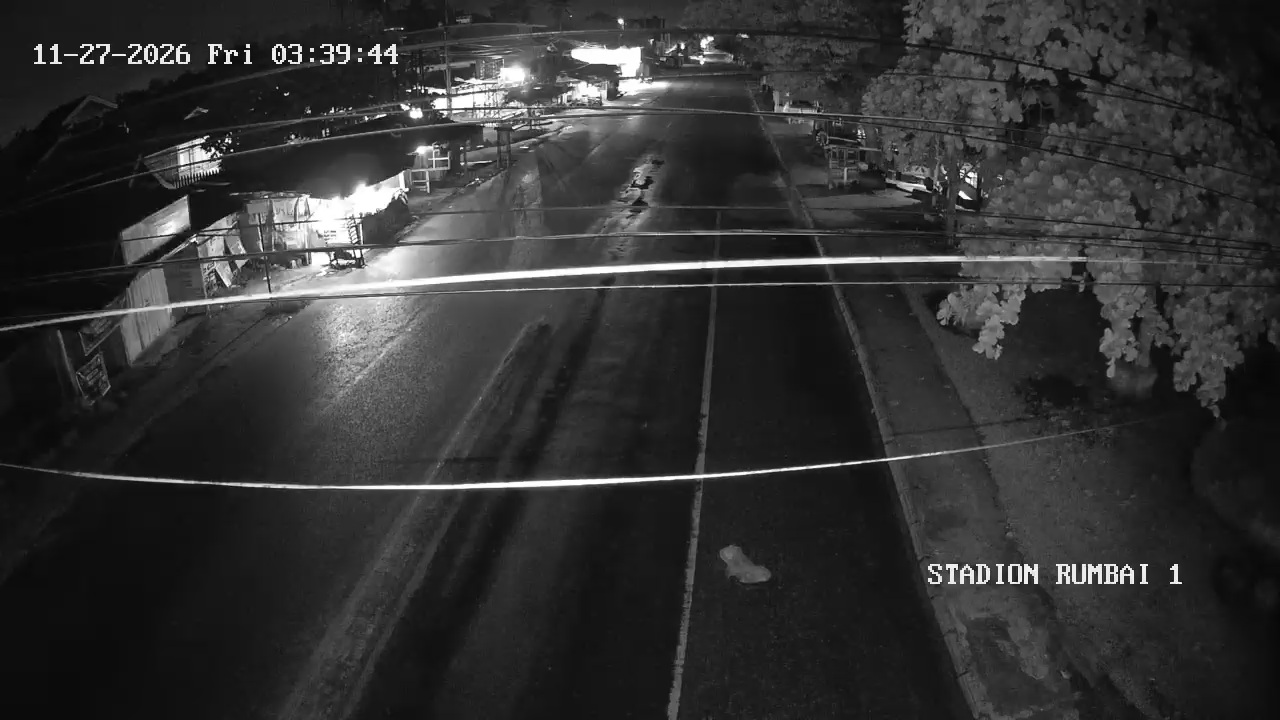Gerobak: (822, 133, 886, 192), (314, 205, 372, 269)
